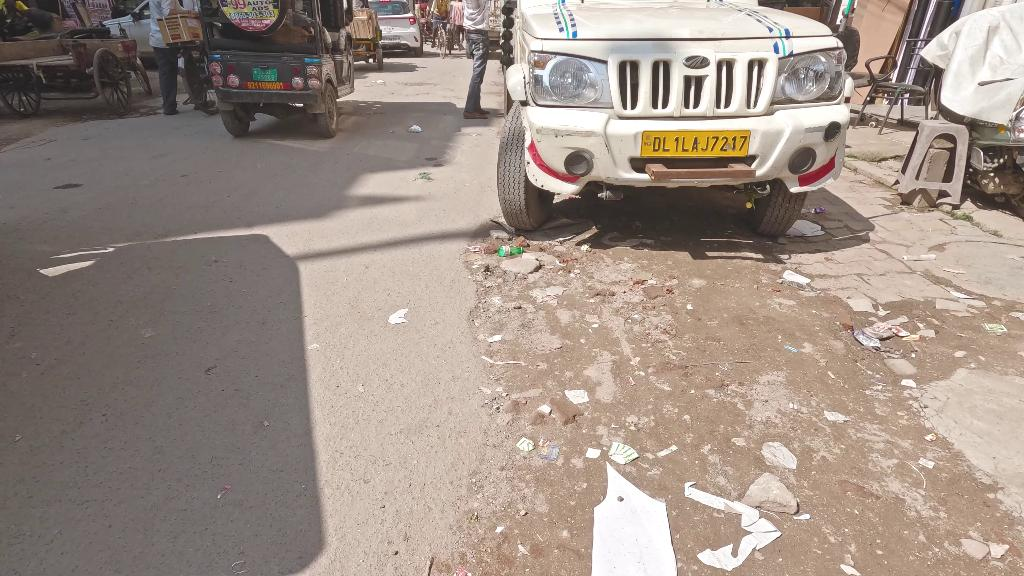garbage: (849, 326, 883, 351), (607, 440, 640, 464), (496, 244, 526, 257)
